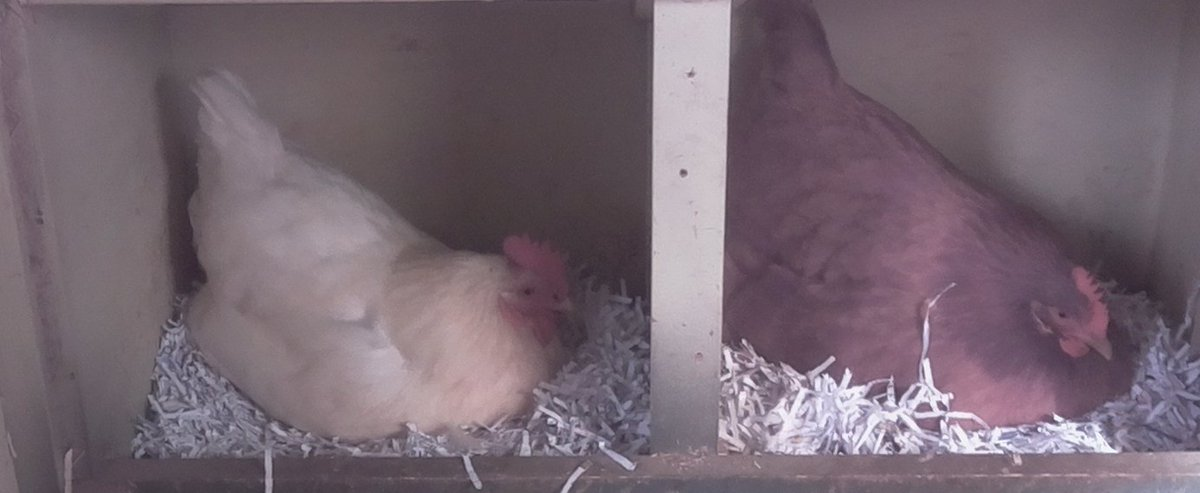hen: (735, 20, 1137, 429), (185, 62, 582, 443)
